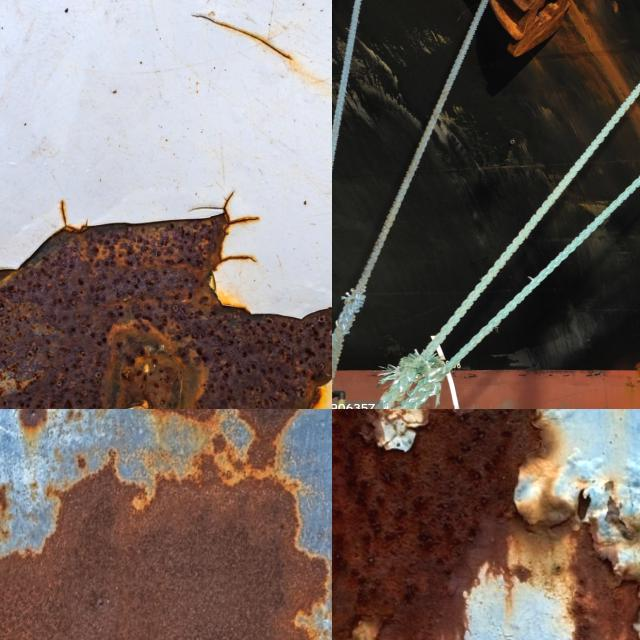Crack: (193, 15, 293, 60)
Pitting Corrosion: (0, 213, 332, 409), (332, 409, 541, 640)
Uniform Corrosion: (0, 466, 326, 640), (150, 409, 297, 483), (554, 0, 632, 107), (490, 0, 570, 56), (235, 409, 299, 477), (17, 409, 63, 445), (628, 102, 640, 140)
